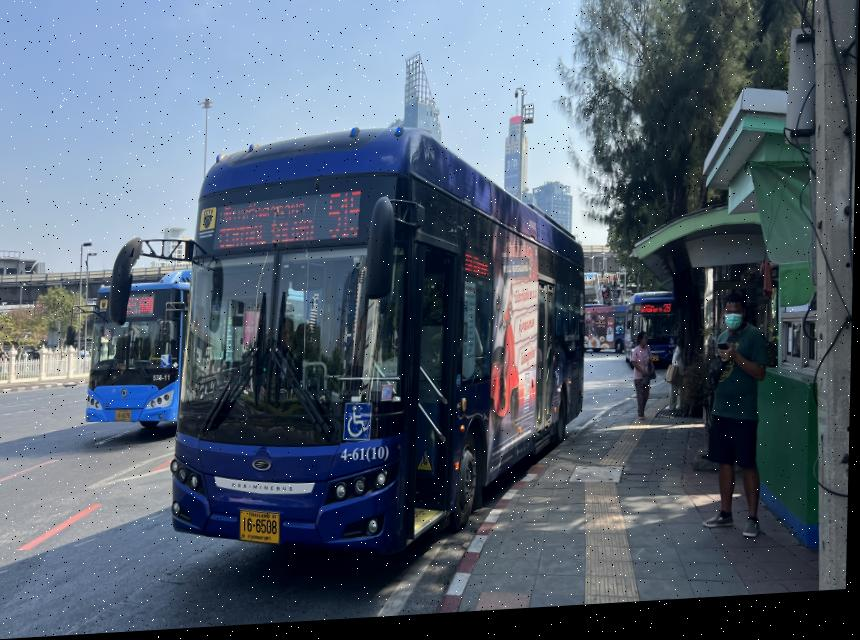Bus Line Number: (326, 188, 368, 250)
Bus Side Number: (341, 448, 396, 470)
Destination Sign: (214, 199, 318, 253)
TSB-Bus: (172, 131, 586, 565)
